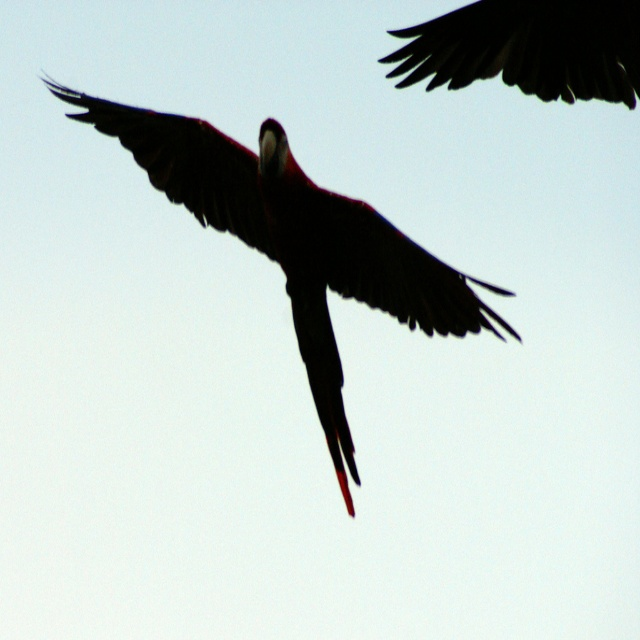Eagle: (40, 59, 521, 519), (375, 0, 639, 115)
